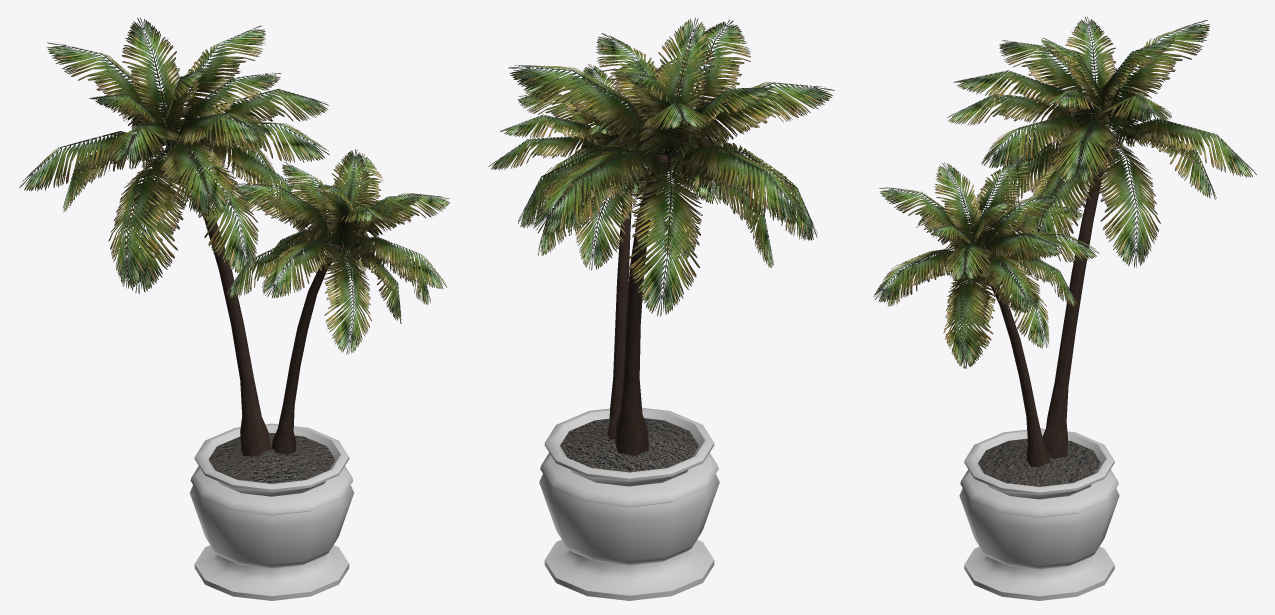
The model's file is SM_LobbyandHotel_Prop_Palm.FBX.
The picture shows the model from 3 angles, left to right: view 1: azimuth 30°, elevation 25°; view 2: azimuth 150°, elevation 25°; view 3: azimuth 270°, elevation 25°; orthographic projection. The views are drawn at different scales.
Parts seen in each view (by area): view 1: SM_Prop_Palm; view 2: SM_Prop_Palm; view 3: SM_Prop_Palm.
Part boxes in pixels (left/top/right/bottom): SM_Prop_Palm: left=19, top=17, right=449, bottom=600; SM_Prop_Palm: left=488, top=17, right=834, bottom=600; SM_Prop_Palm: left=873, top=16, right=1256, bottom=600.
Bounding box in the file's own units: 2.04 × 2.86 × 2.03.
